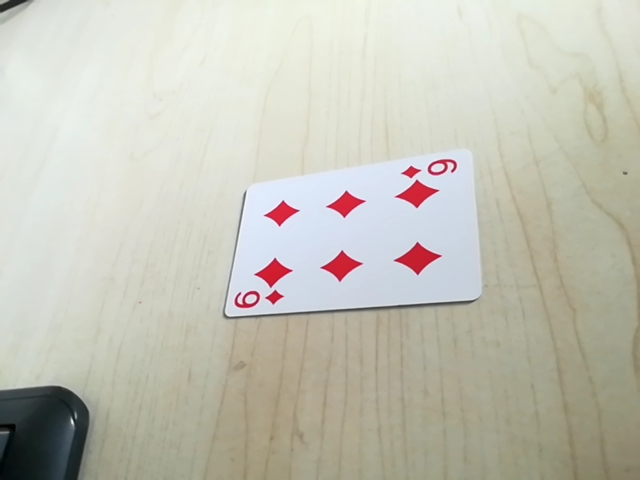fk 6: (401, 155, 465, 183), (230, 286, 289, 314)
